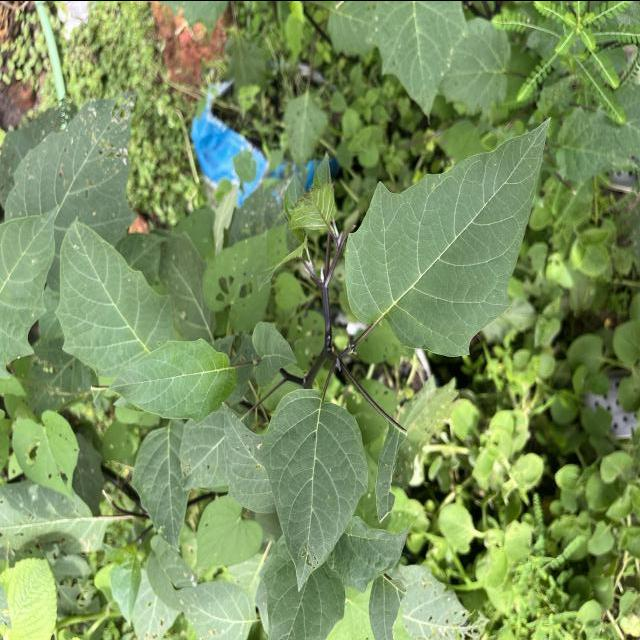Datura metal linn: (342, 113, 554, 360), (256, 385, 370, 595), (104, 334, 240, 426)
